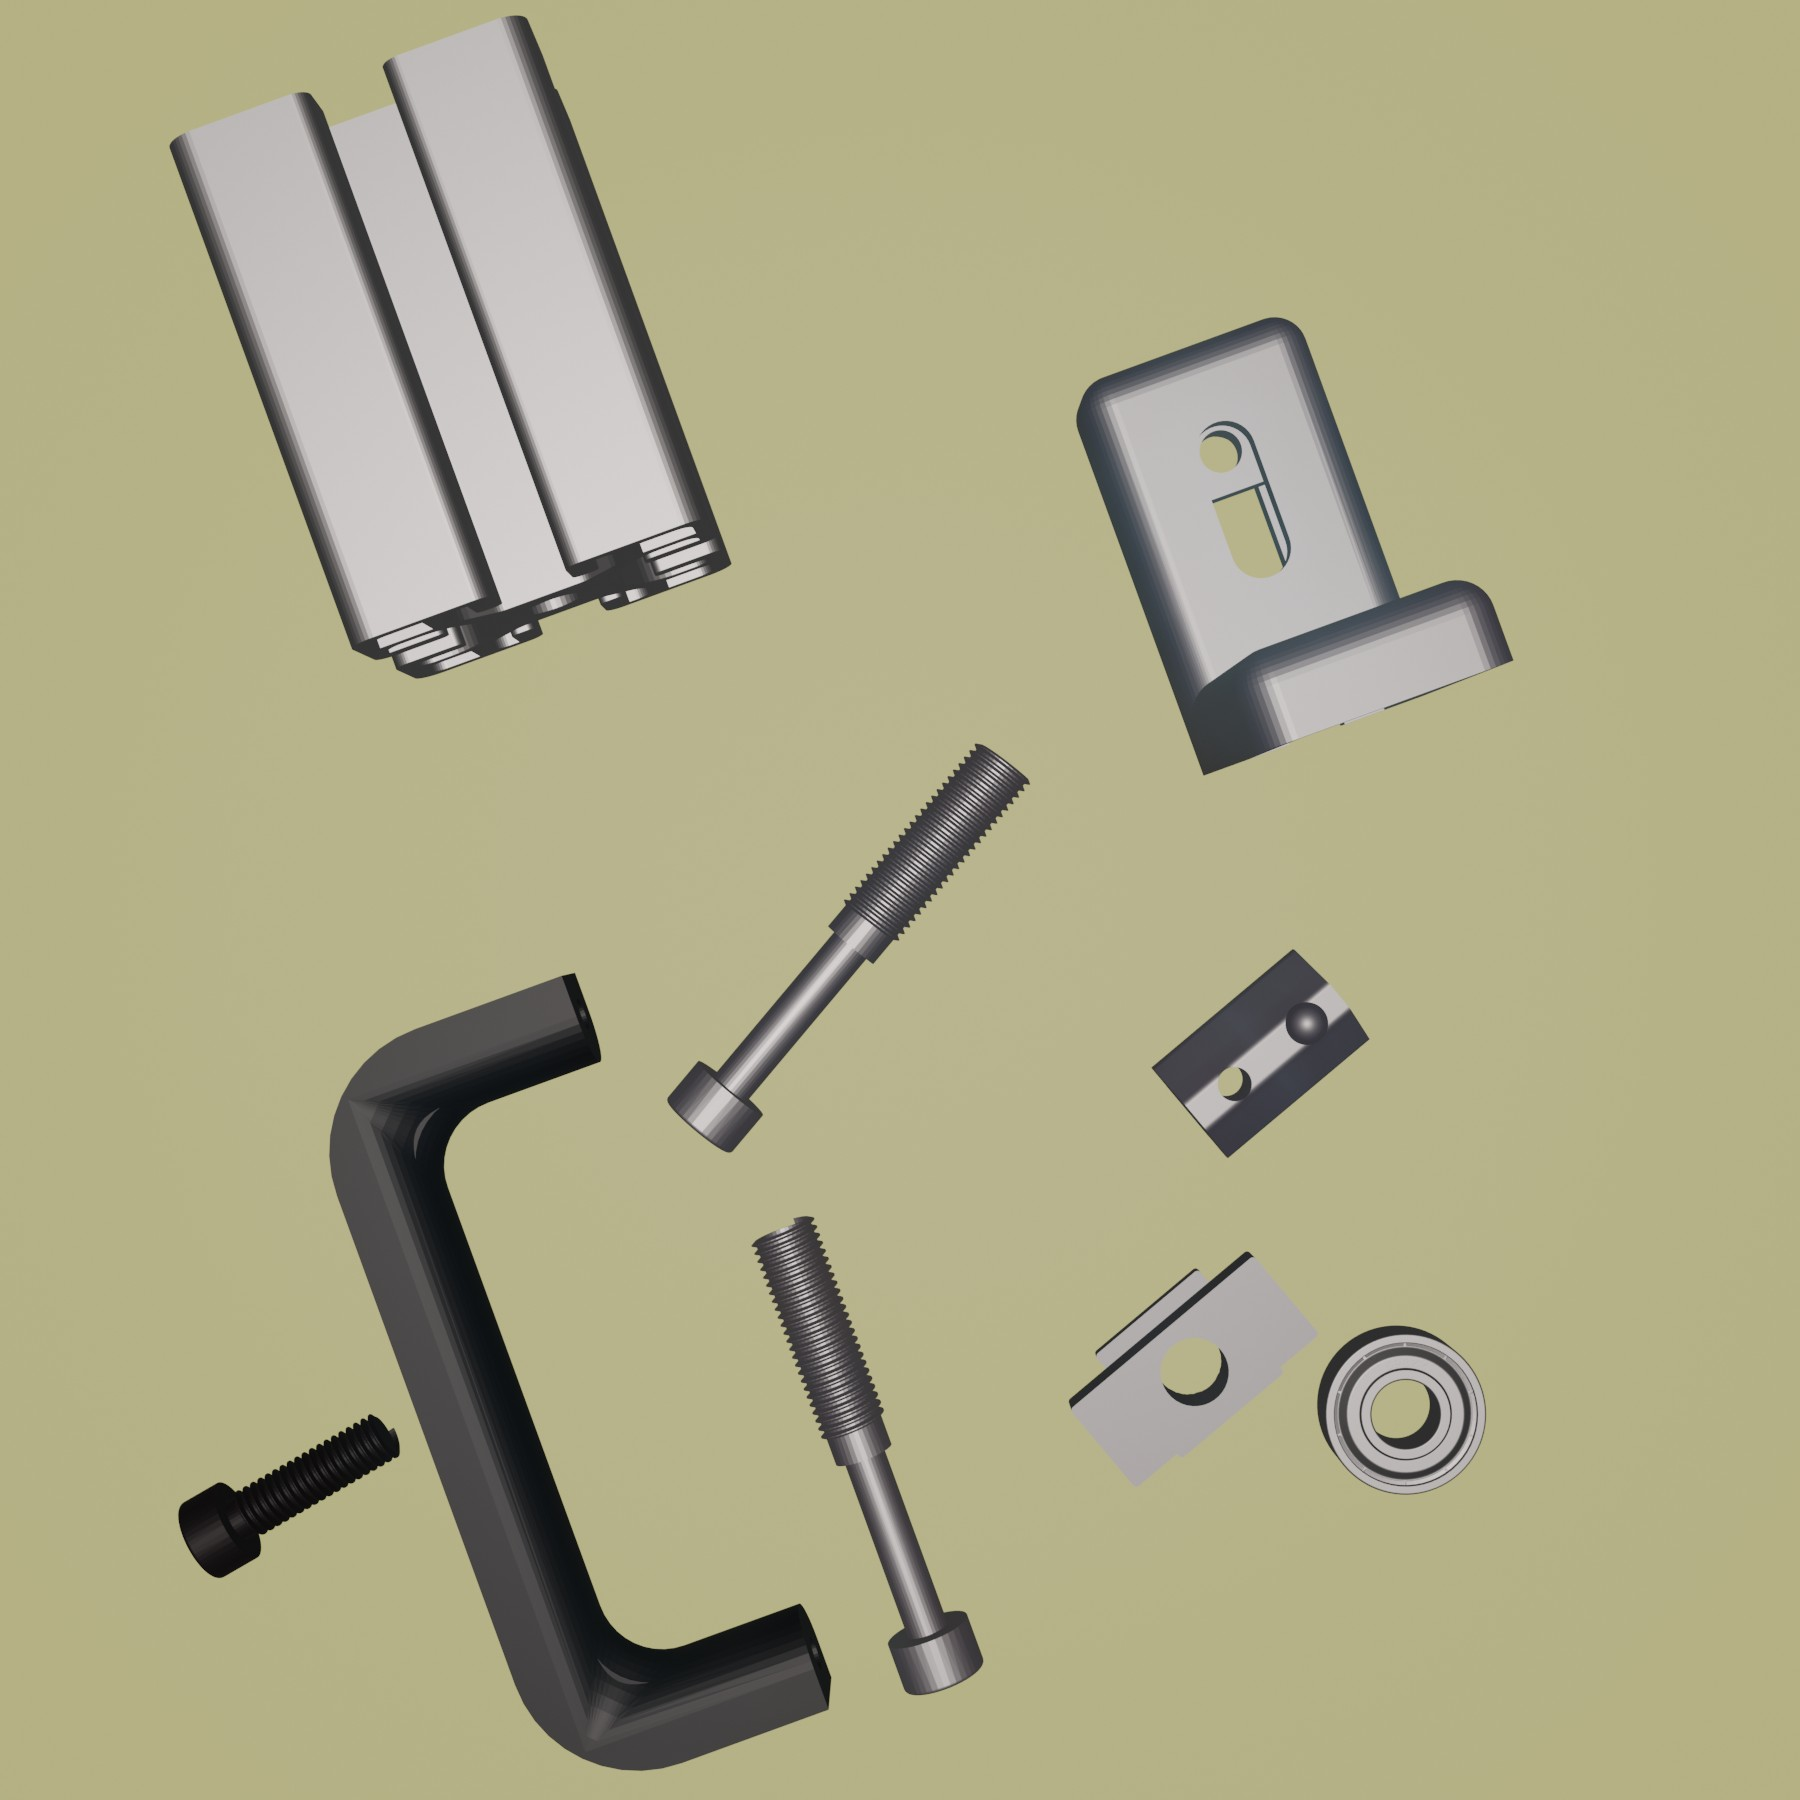Aluminium Extension: (165, 13, 734, 681)
Ball Bearing: (1317, 1322, 1490, 1498)
Multiwinkel: (1073, 316, 1513, 778)
Pull Handle: (330, 964, 836, 1772)
Shoulder Socket Head Cap Screw: (668, 742, 1034, 1155), (748, 1212, 986, 1698)
Socket Head Cap Screw: (176, 1409, 404, 1581)
T Nut Square: (1065, 1249, 1315, 1492)
T Spring Nut: (1151, 945, 1371, 1159)
